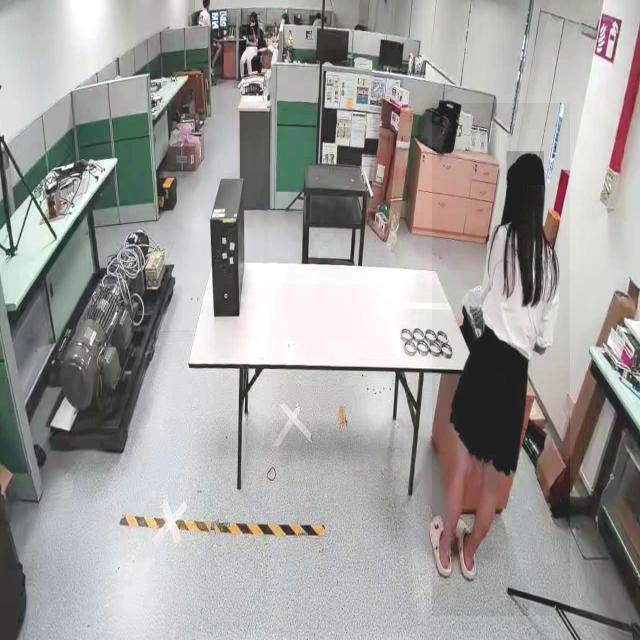face_mask: (247, 15, 257, 35)
head_nohelmet: (506, 151, 544, 186), (251, 10, 259, 15)
person: (432, 103, 570, 617), (240, 11, 264, 79)
